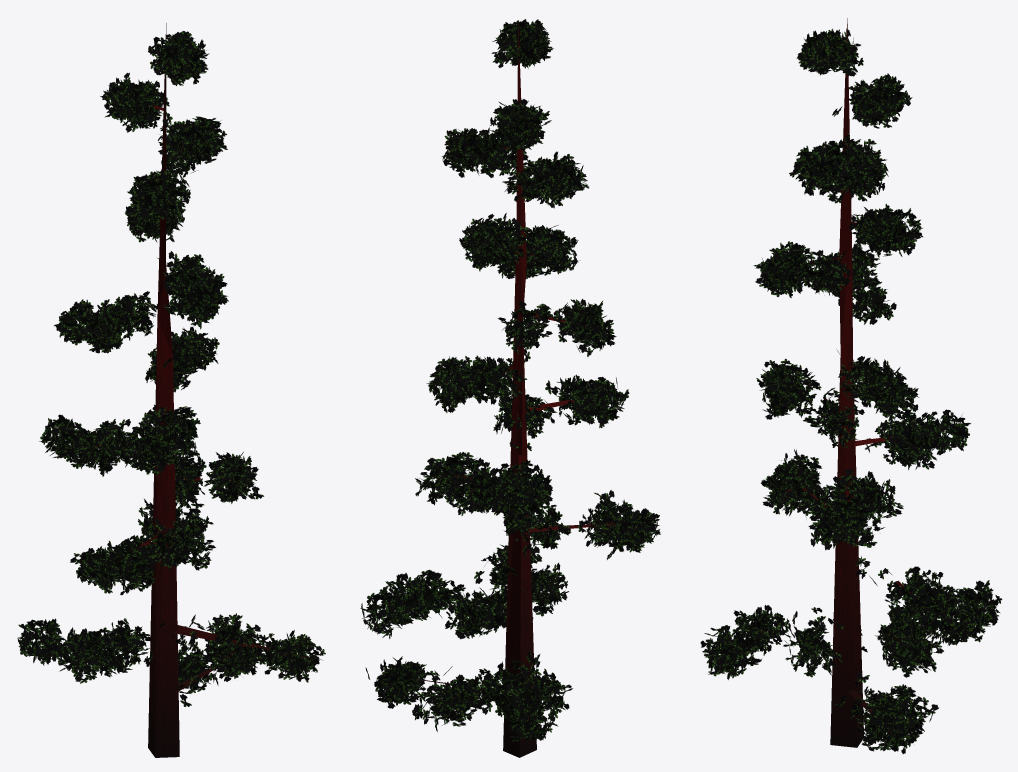
The model's file is spruce_conifer_v02_LOD1.glb.
3 views of the same model, side by side, from view 1: azimuth 30°, elevation 25°; view 2: azimuth 150°, elevation 25°; view 3: azimuth 270°, elevation 25° (orthographic).
Visible parts, largest first — view 1: spruce_conifer_v02_LOD1; view 2: spruce_conifer_v02_LOD1; view 3: spruce_conifer_v02_LOD1.
Part boxes in pixels (box(x1,y1,x2,y2)): spruce_conifer_v02_LOD1: box(17, 23, 325, 757); spruce_conifer_v02_LOD1: box(360, 19, 660, 757); spruce_conifer_v02_LOD1: box(700, 18, 1002, 753).
Bounding box in the file's own units: 9.81 × 27.94 × 10.8.
2 materials, 2 textured.
